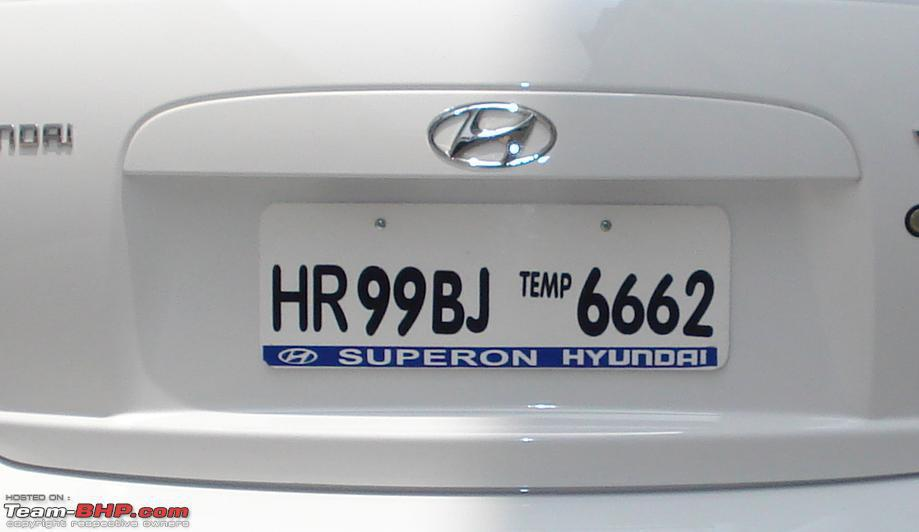licence-plate: (258, 229, 726, 343)
